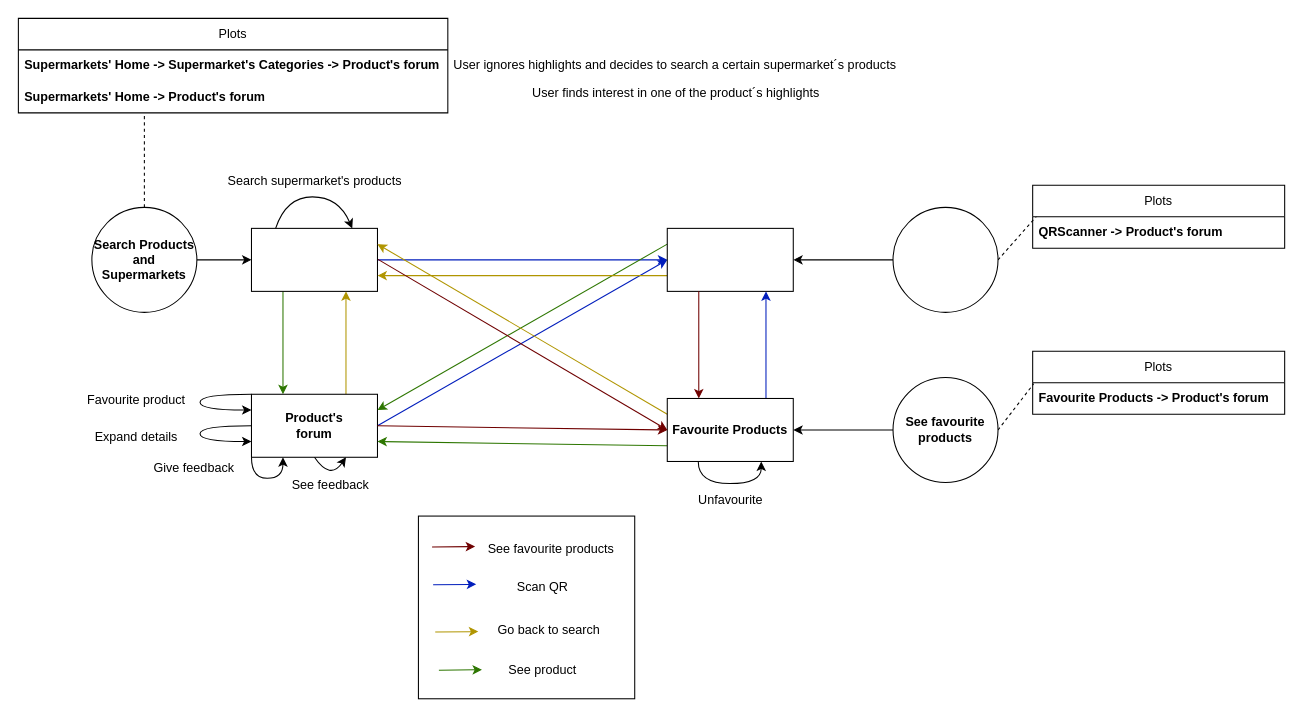
Image size: 1303x717. Some labels were removed from this diagram. Each missing label, with the centre of its shape:
QRScanner: the point at 729,259
ScanQR: the point at 945,259
Supermarkets' Home: the point at 313,259
